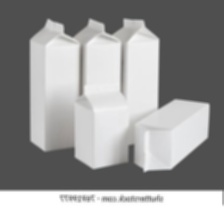carton: (28, 15, 76, 153), (130, 95, 212, 174), (111, 17, 161, 145), (71, 81, 130, 171), (68, 17, 123, 95)
